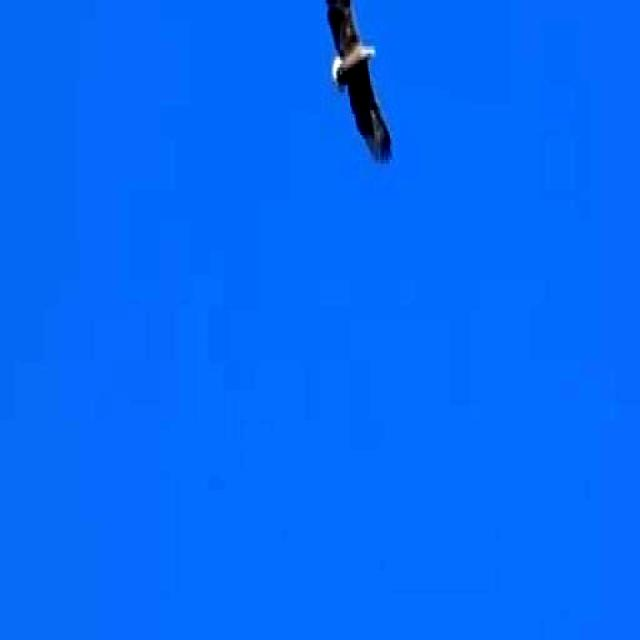airplane: (291, 0, 416, 208)
